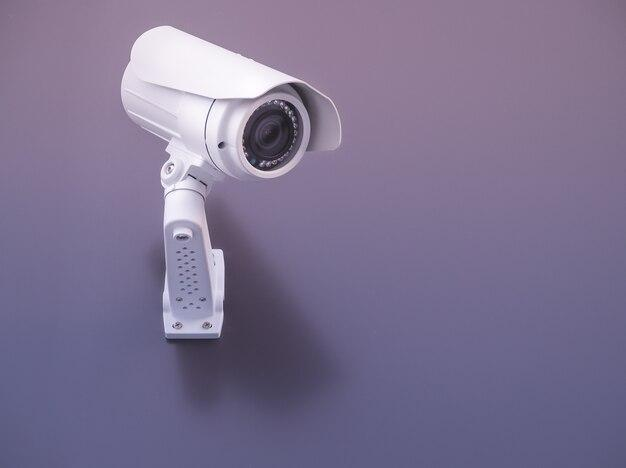camera: (98, 4, 366, 190)
